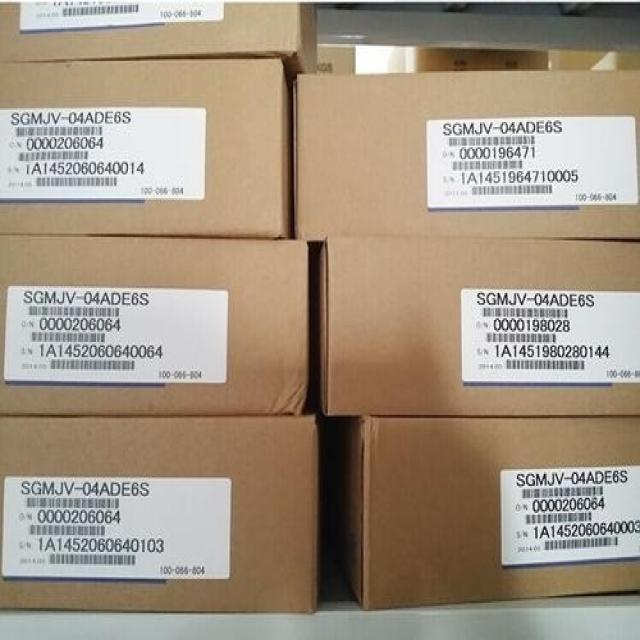box: (0, 411, 320, 614), (333, 415, 639, 611), (293, 69, 639, 242), (0, 230, 309, 414), (317, 242, 639, 415), (1, 55, 292, 238), (0, 1, 320, 78), (414, 47, 551, 71), (295, 42, 354, 79)
